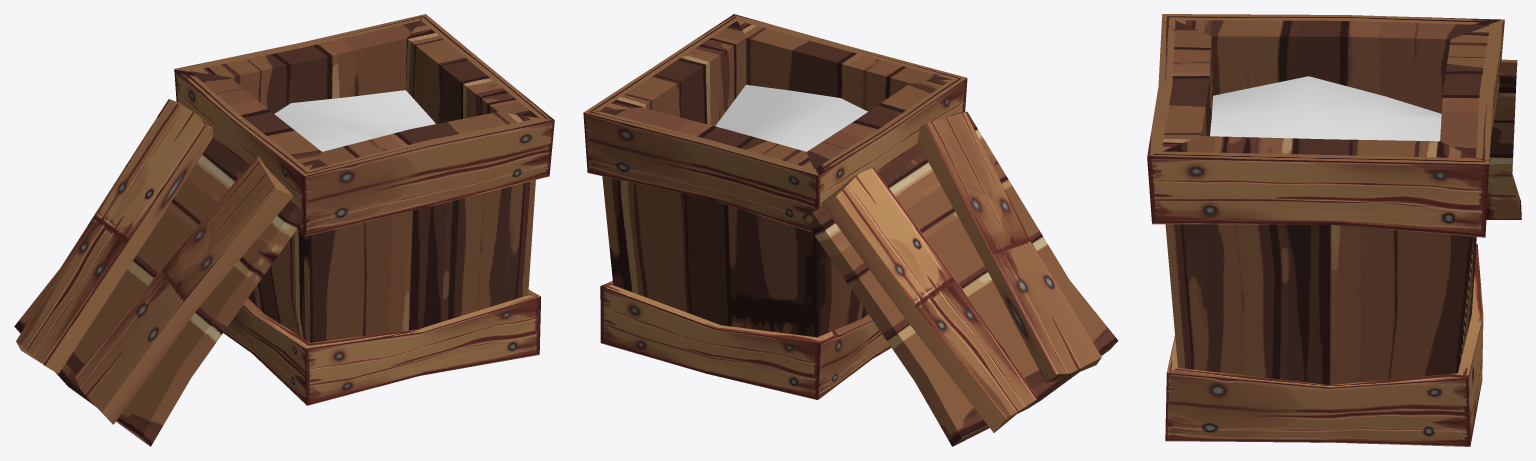
File: SM_PROP_box_03.fbx
3 renders of one model, left to right at view 1: azimuth 30°, elevation 25°; view 2: azimuth 150°, elevation 25°; view 3: azimuth 270°, elevation 25°, orthographic. The views are drawn at different scales.
Visible parts, largest first — view 1: SM_PROP_box_03, SM_PROP_box_lid_03; view 2: SM_PROP_box_03, SM_PROP_box_lid_03; view 3: SM_PROP_box_03, SM_PROP_box_lid_03.
Boxes of the visible parts, left/top/right/bottom form: SM_PROP_box_03: left=174, top=14, right=554, bottom=405; SM_PROP_box_lid_03: left=14, top=99, right=302, bottom=446; SM_PROP_box_03: left=583, top=14, right=967, bottom=400; SM_PROP_box_lid_03: left=802, top=111, right=1118, bottom=446; SM_PROP_box_03: left=1147, top=14, right=1504, bottom=446; SM_PROP_box_lid_03: left=1486, top=59, right=1521, bottom=219.
Bounding box in the file's own units: 157 × 85.83 × 98.89.
